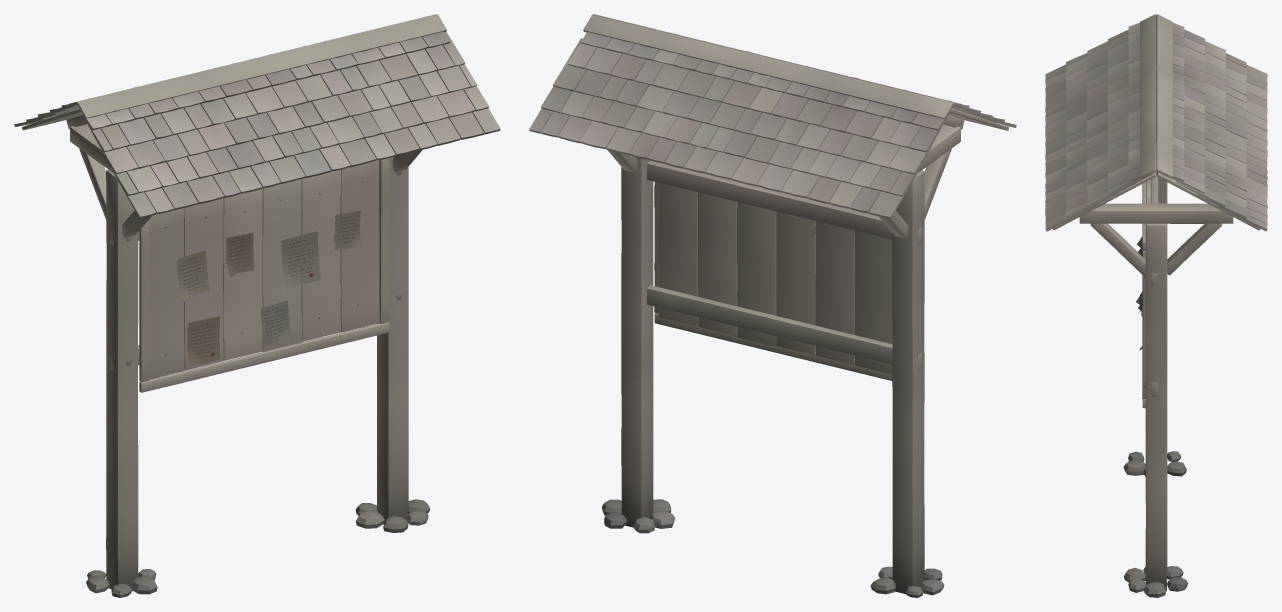
Rendered from order_board.glb.
3 renders of one model, left to right at view 1: azimuth 30°, elevation 25°; view 2: azimuth 150°, elevation 25°; view 3: azimuth 270°, elevation 25°, orthographic. The views are drawn at different scales.
Parts seen in each view (by area): view 1: OrderBoard / tav_board, OrderBoard / tav_oak, OrderBoard / tav_paper, OrderBoard / tav_stone, OrderBoard / tav_paint; view 2: OrderBoard / tav_board, OrderBoard / tav_oak, OrderBoard / tav_stone; view 3: OrderBoard / tav_board, OrderBoard / tav_oak, OrderBoard / tav_stone.
Part boxes in pixels (x1,y1,x2,y2): OrderBoard / tav_board: [14, 14, 500, 392]; OrderBoard / tav_oak: [66, 114, 422, 590]; OrderBoard / tav_paper: [177, 210, 362, 367]; OrderBoard / tav_stone: [86, 499, 430, 597]; OrderBoard / tav_paint: [181, 216, 355, 357]; OrderBoard / tav_board: [529, 14, 1016, 380]; OrderBoard / tav_oak: [606, 115, 964, 593]; OrderBoard / tav_stone: [602, 499, 944, 597]; OrderBoard / tav_board: [1045, 14, 1267, 408]; OrderBoard / tav_oak: [1079, 171, 1233, 591]; OrderBoard / tav_stone: [1123, 451, 1188, 597].
Bounding box in the file's own units: 2 × 2.63 × 1.21.
